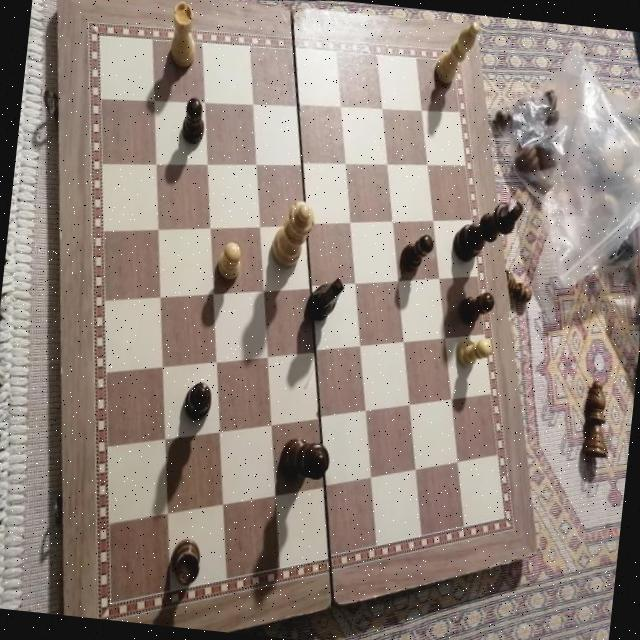corners: (524, 538, 549, 564), (459, 13, 482, 32)
